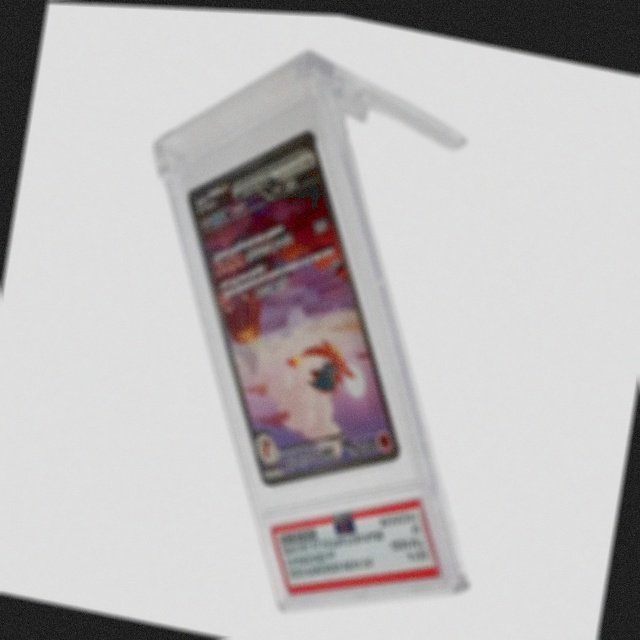card: (186, 127, 400, 483)
